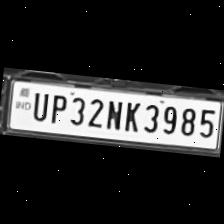2: (84, 94, 106, 128)
3: (66, 90, 86, 126), (140, 99, 160, 134)
5: (196, 105, 218, 139)
8: (176, 103, 198, 137)
9: (159, 101, 178, 135)
K: (120, 97, 142, 133)
N: (102, 96, 124, 130)
P: (46, 90, 68, 124)
U: (28, 88, 50, 121)
